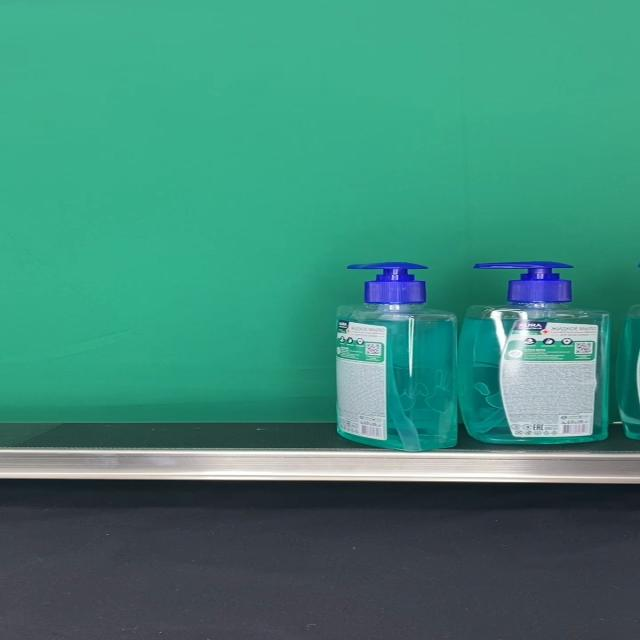Bottle: (458, 262, 610, 444), (334, 261, 457, 451)
Cap: (474, 262, 574, 304), (346, 262, 427, 303)
